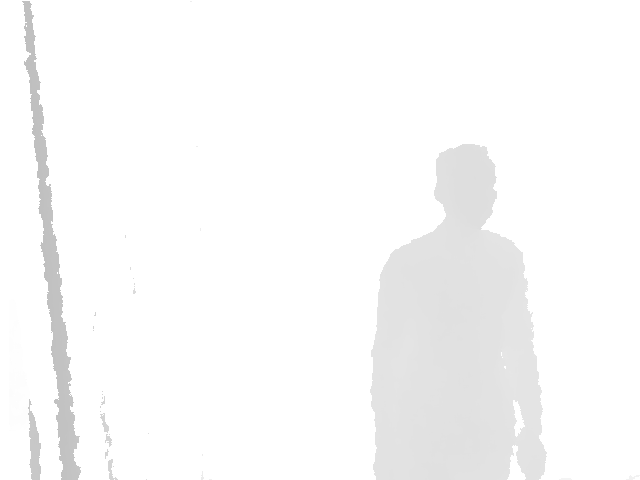head: (433, 143, 498, 229)
person: (369, 144, 547, 480)
